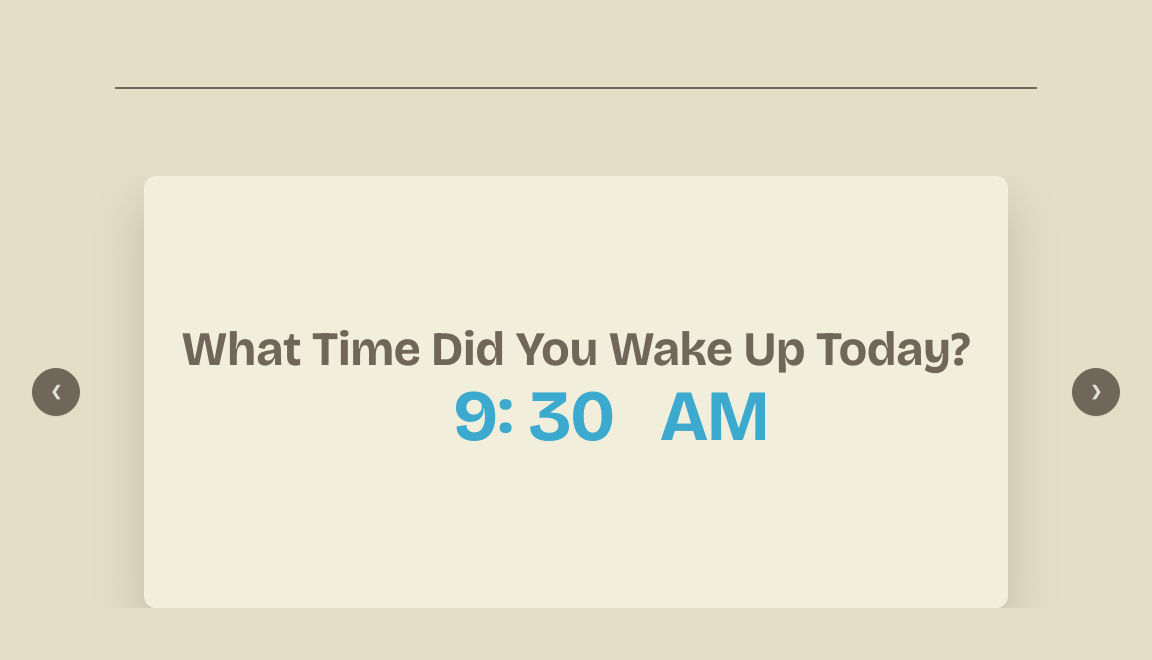
Test: Testing slider buttons › Goes to previous carousel with prev button
The image size is (1152, 660).
Note: Move to the next slide first
Click the button "❯": (1096, 392) [1072, 368, 1120, 416]
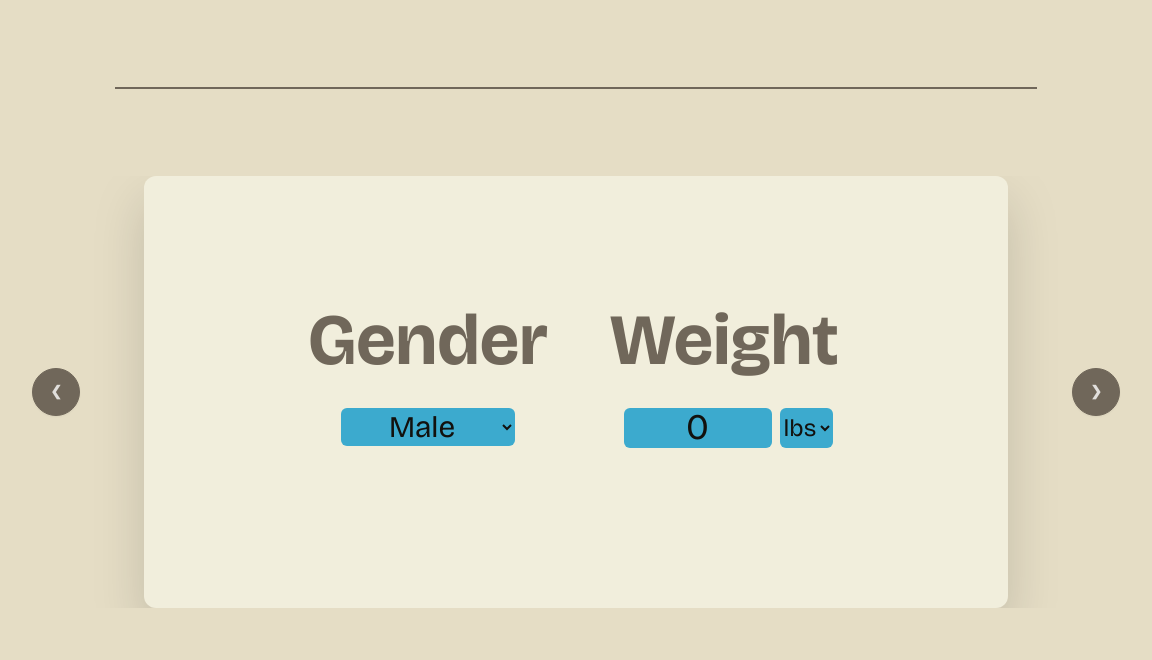
Expected: the heading "Gender" is shown, [308, 297, 548, 383]
Note: Then move back to the previous slide
Click the button "❮": (56, 392) [32, 368, 80, 416]
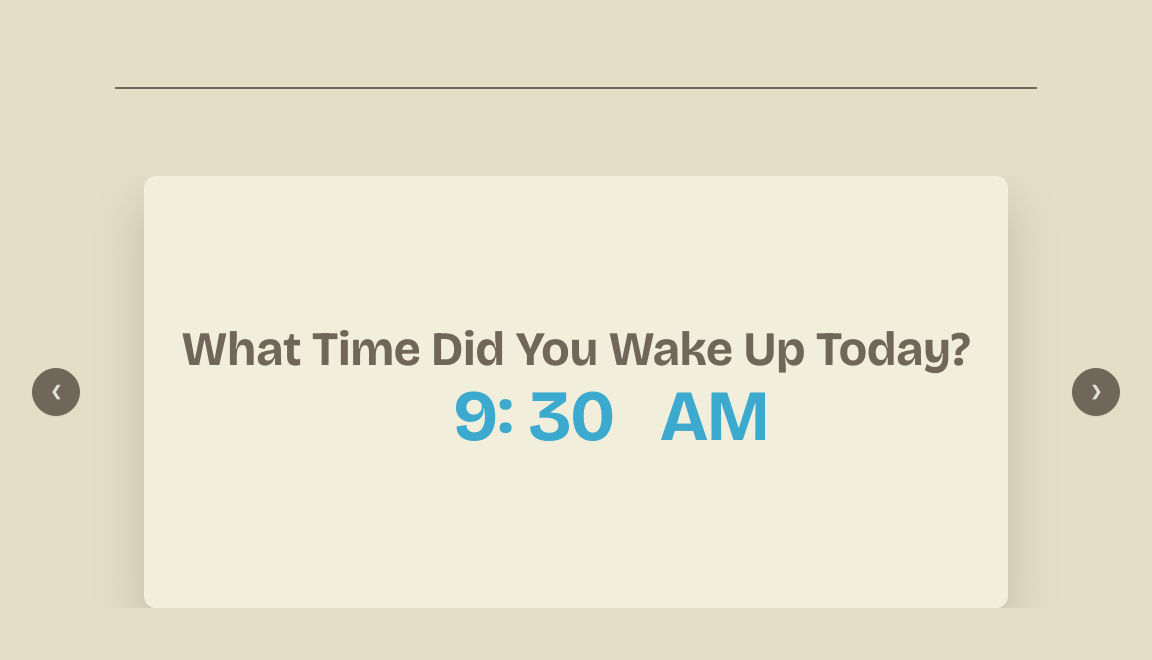
Expected: the text "What Time Did You Wake Up Today?" is shown, [182, 325, 970, 373]
